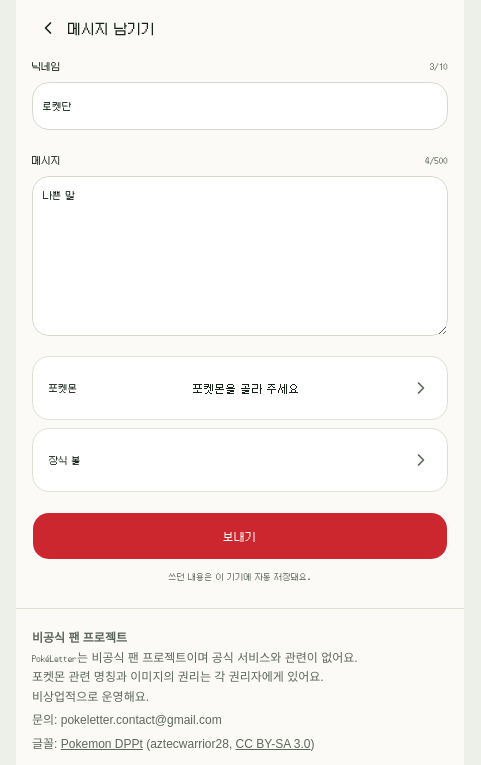
Scenario: WritePage › 욕설로 거절되면 같은 내용은 다시 보내지 않고, 고치면 마스킹 허용으로 보낸다 (POL-FLT-07)
The image size is (481, 765).
Later steps or results of the test are not shown.
Click the button "보내기" at (240, 536), box [32,512,448,560]
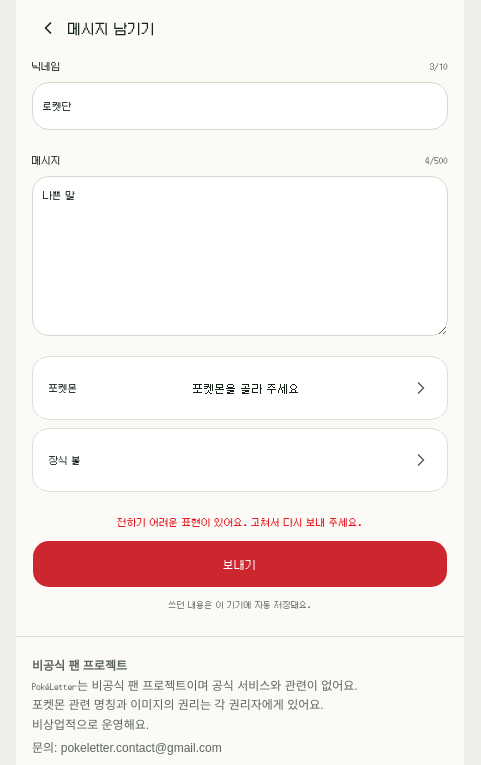
Expected: the message shows "전하기 어려운 표현이 있어요", [118,515,362,529]
